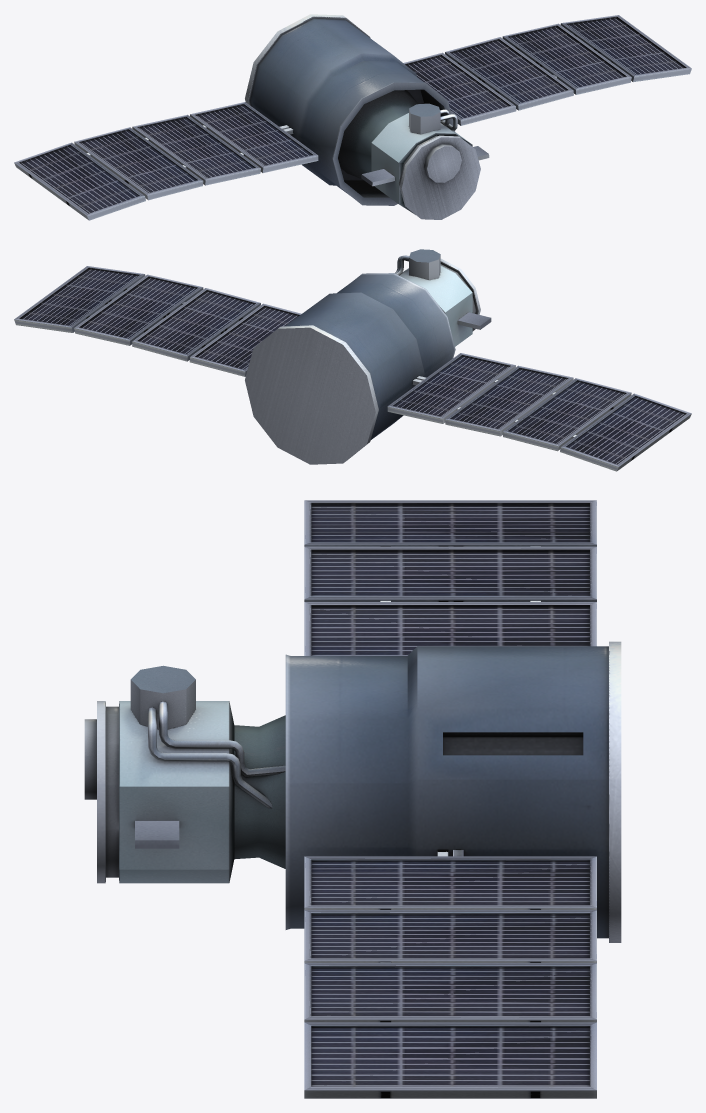
File: sputnik1.fbx
3 renders of one model, top to bottom at view 1: azimuth 30°, elevation 25°; view 2: azimuth 150°, elevation 25°; view 3: azimuth 270°, elevation 25°, orthographic. The views are drawn at different scales.
Parts seen in each view (by area): view 1: spunik; view 2: spunik; view 3: spunik.
Boxes of the visible parts, x1=… form: spunik: x1=14, y1=14, x2=691, y2=220; spunik: x1=14, y1=249, x2=691, y2=471; spunik: x1=84, y1=500, x2=621, y2=1098.
Size of the model in its own units: 954 by 207 by 366.
